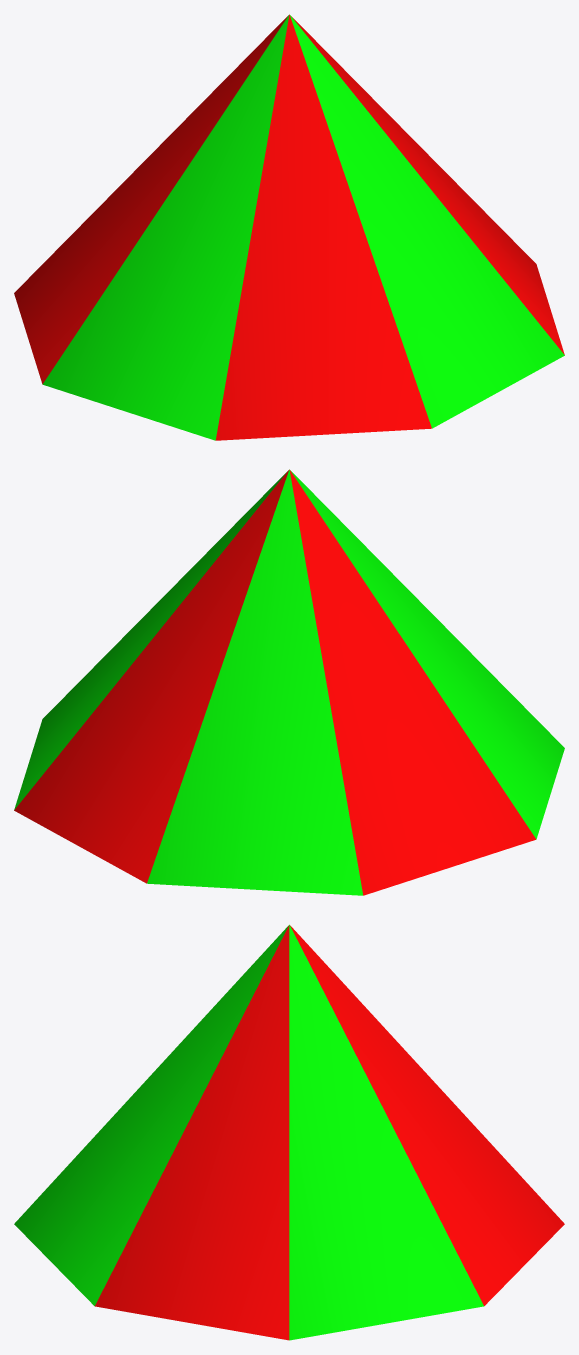
File: 8pyramid_basic.DAE
3 views of the same model, one above another, from view 1: azimuth 30°, elevation 25°; view 2: azimuth 150°, elevation 25°; view 3: azimuth 270°, elevation 25° (orthographic). The views are drawn at different scales.
Parts seen in each view (by area): view 1: Cone001; view 2: Cone001; view 3: Cone001.
Boxes of the visible parts, x1,y1,x2,y2 form: Cone001: (14,14,564,440); Cone001: (14,469,564,895); Cone001: (14,924,564,1340).
Size of the model in its own units: 500 by 500 by 300.
